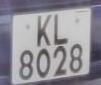0: (35, 46, 54, 82)
2: (52, 44, 69, 80)
8: (17, 45, 36, 85), (68, 41, 85, 79)
K: (34, 12, 54, 52)
L: (51, 12, 72, 48)
